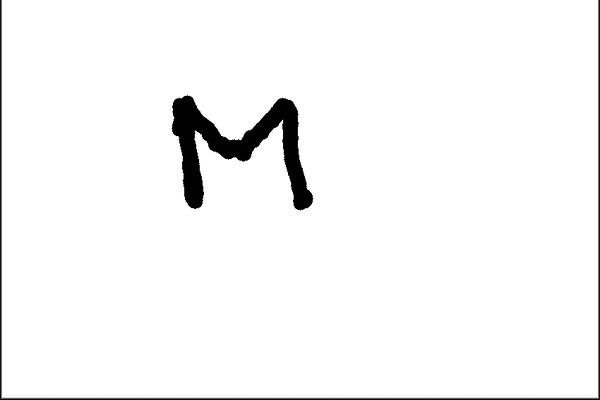M: (163, 89, 319, 218)
